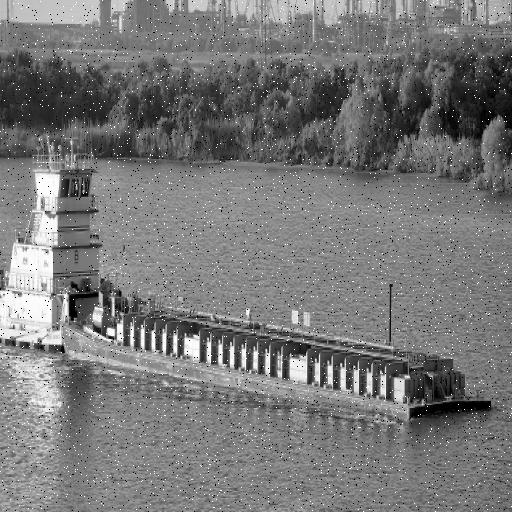tugboat: (1, 129, 119, 372)
